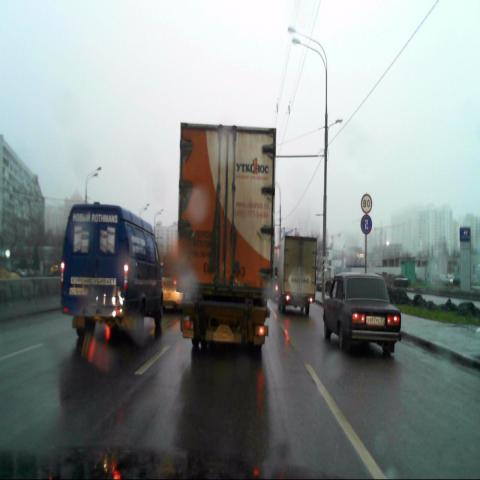3_30: (360, 214, 372, 234)
